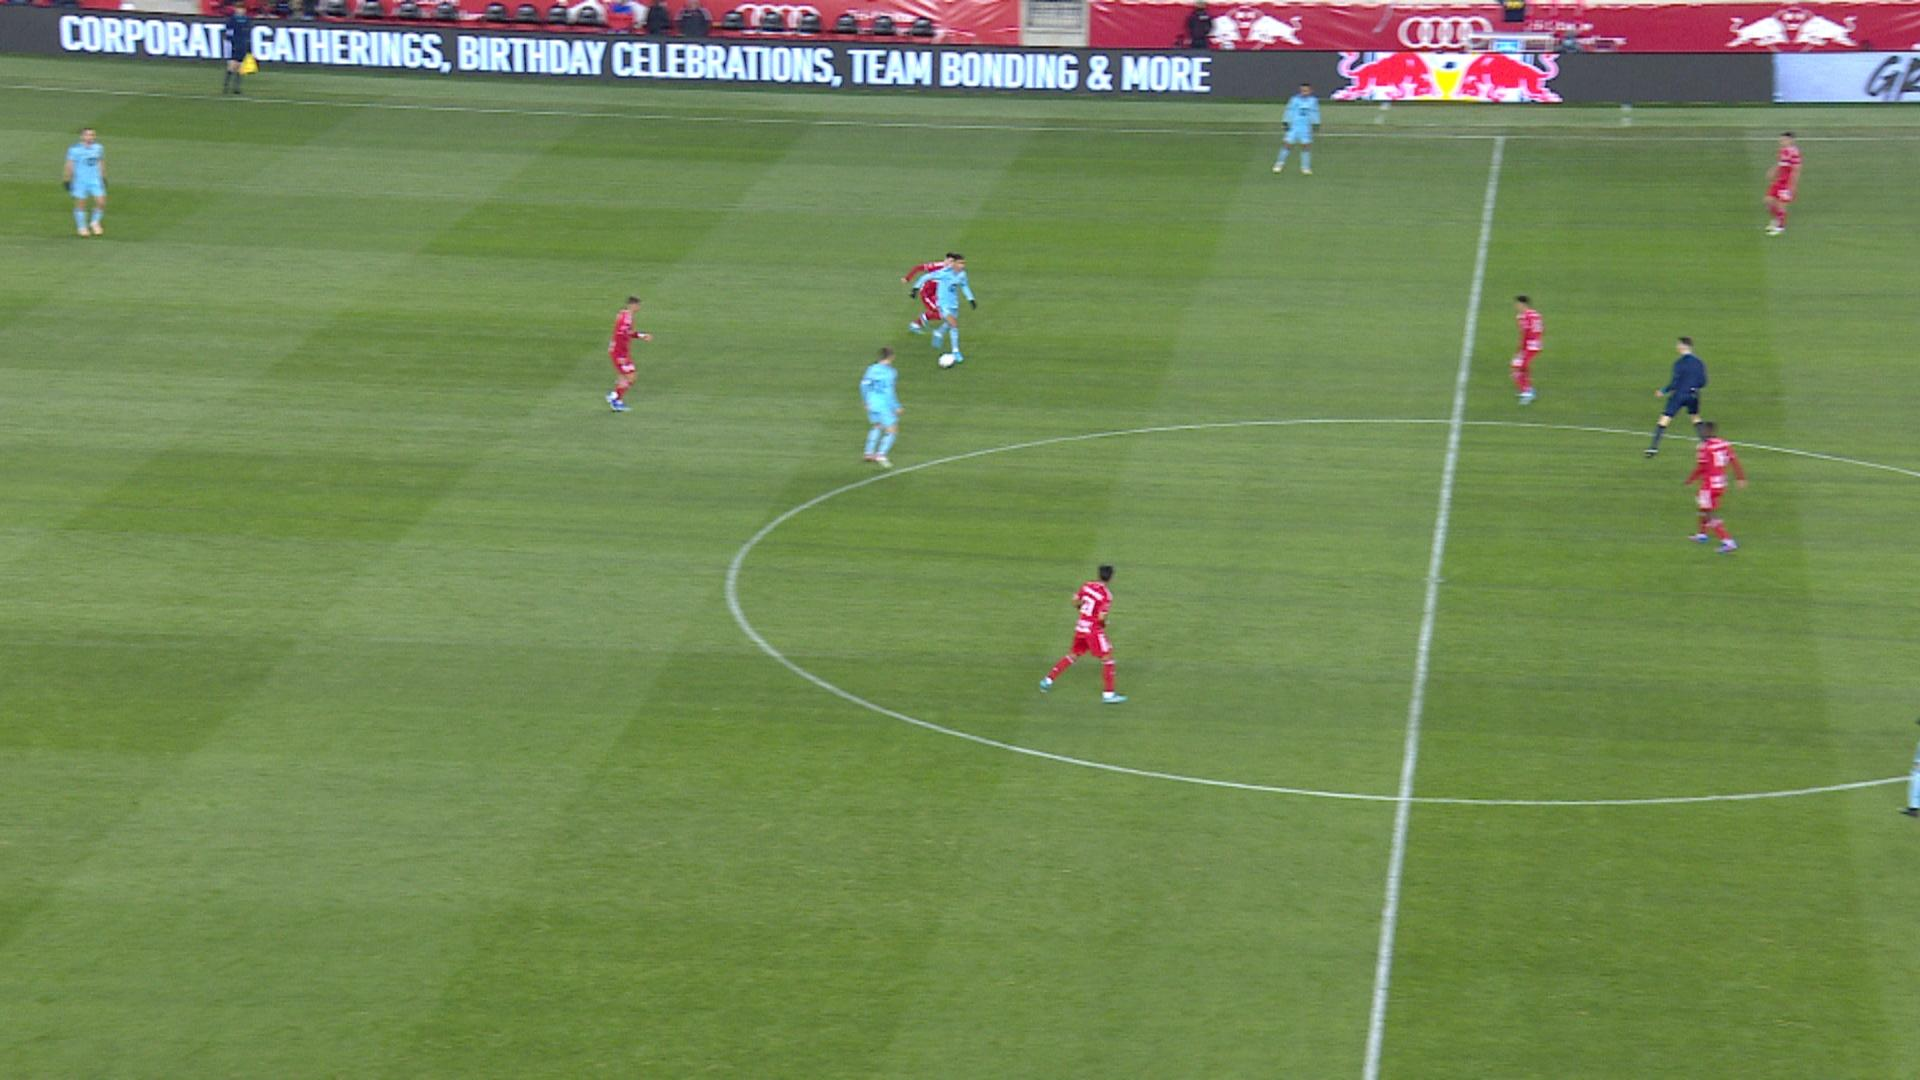football: (936, 352, 955, 369)
